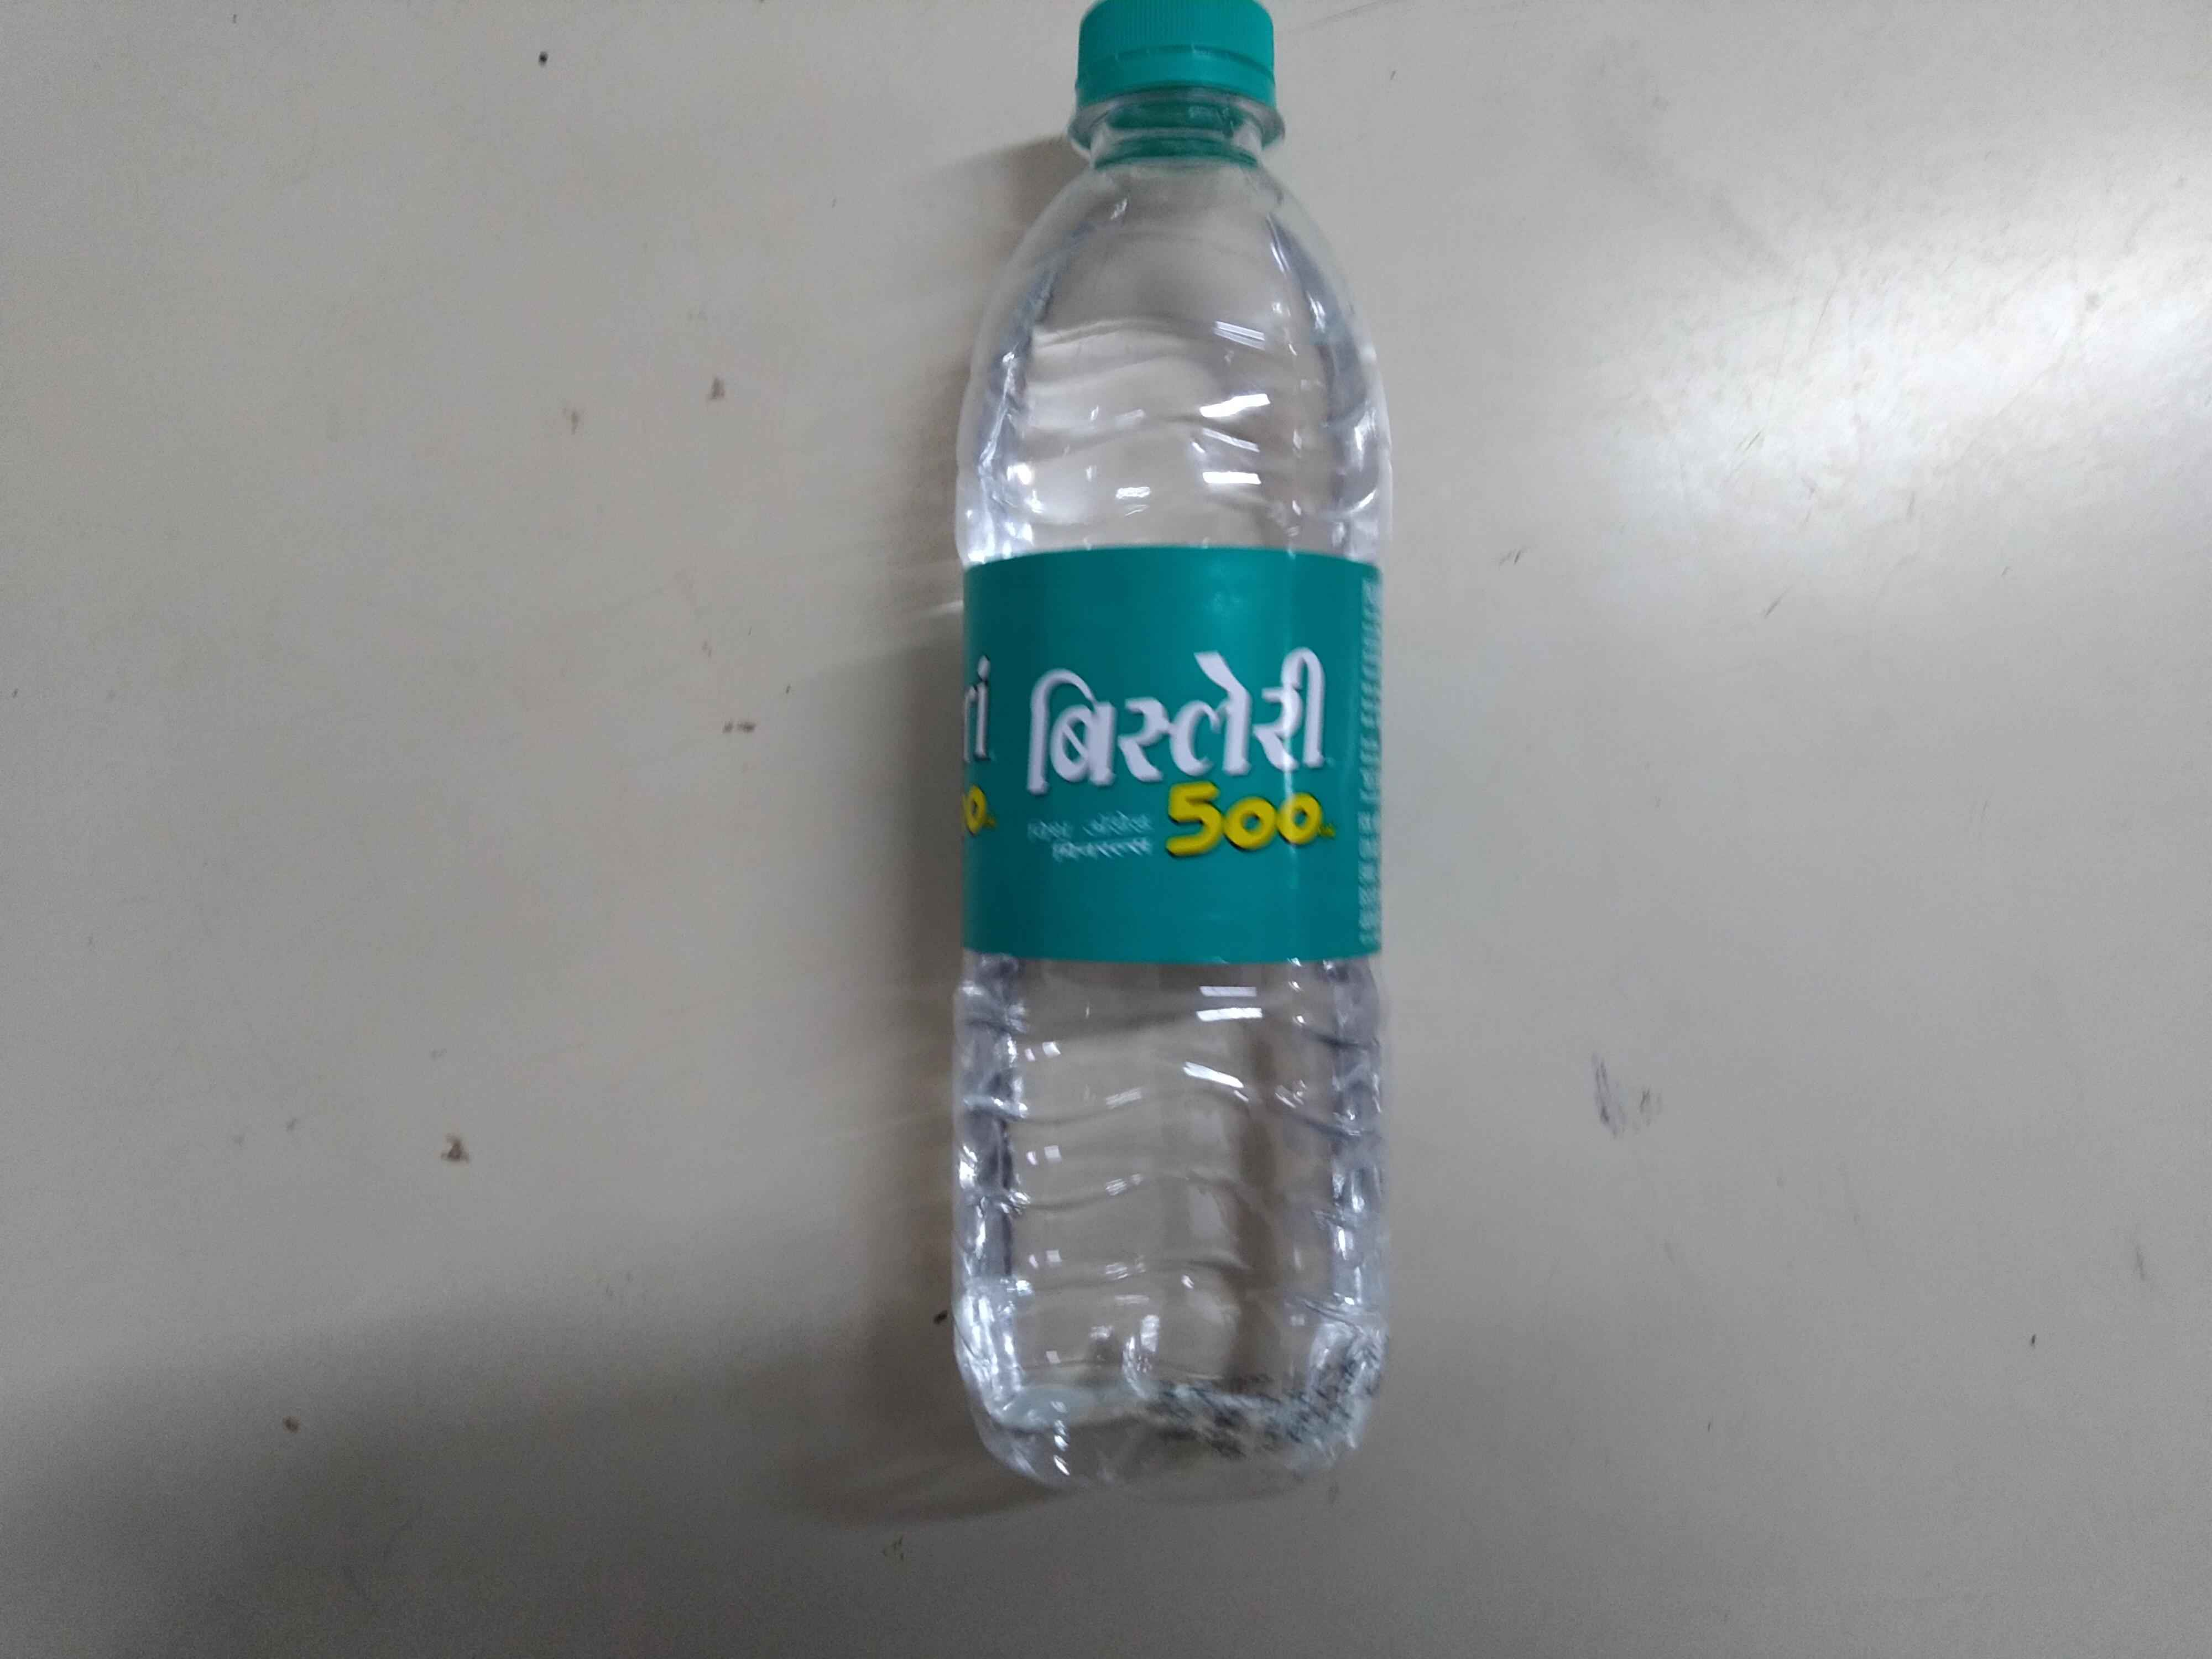Bisleri: (961, 572, 1366, 925)
